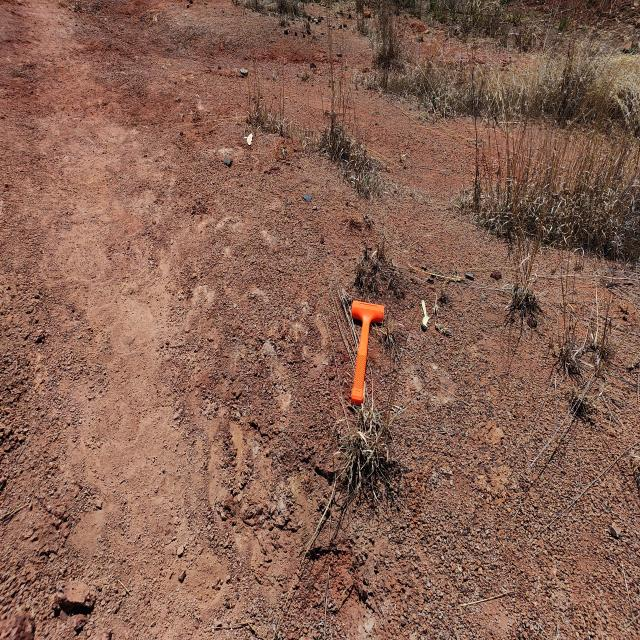Orange_hammer: (349, 299, 385, 406)
